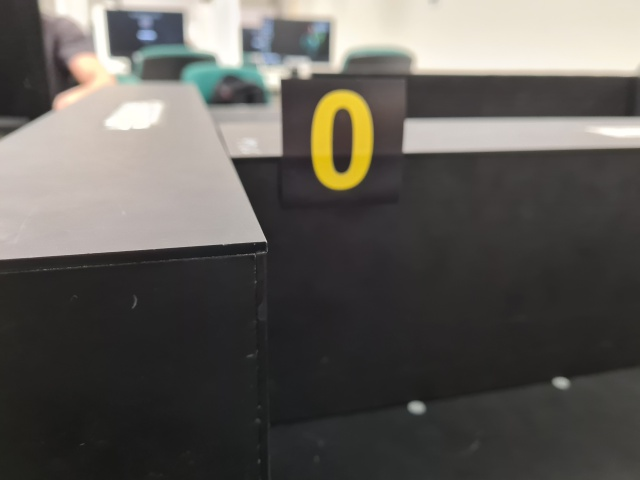six: (280, 79, 404, 207)
